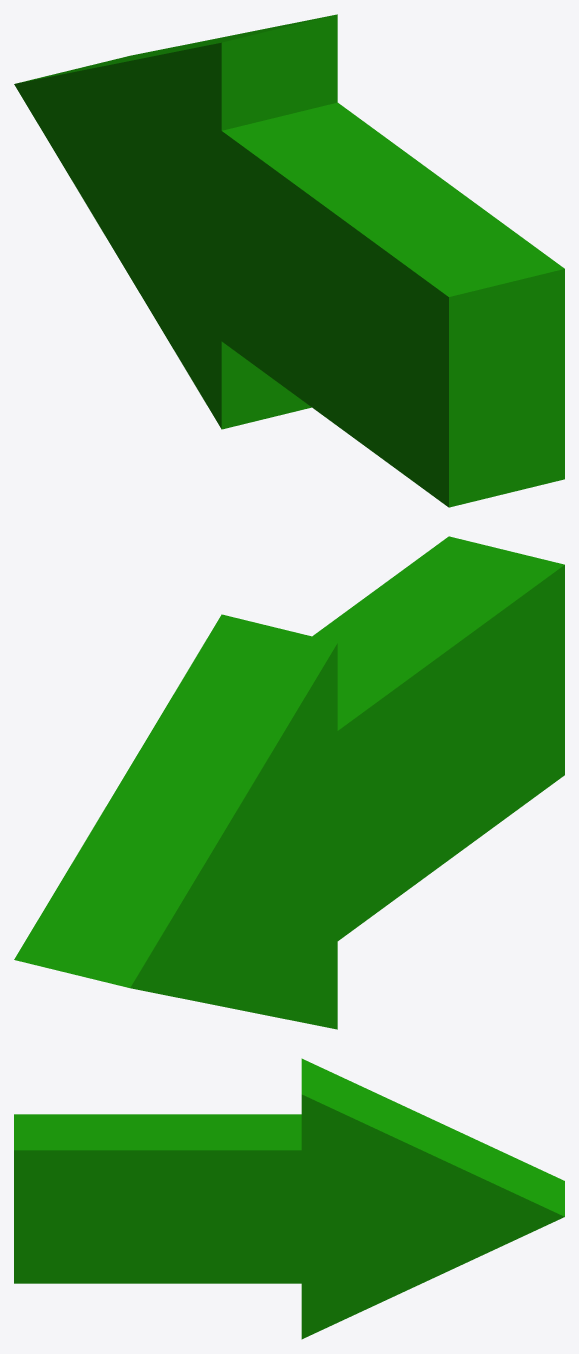
File: grabber_arrow_forward.obj
3 views of the same model, one above another, from view 1: azimuth 30°, elevation 25°; view 2: azimuth 150°, elevation 25°; view 3: azimuth 270°, elevation 25° (orthographic). The views are drawn at different scales.
Visible parts, largest first — view 1: grabber_arrow_forward_Plane.004_green; view 2: grabber_arrow_forward_Plane.004_green; view 3: grabber_arrow_forward_Plane.004_green.
Boxes of the visible parts, x1=… form: grabber_arrow_forward_Plane.004_green: x1=14, y1=14, x2=564, y2=507; grabber_arrow_forward_Plane.004_green: x1=14, y1=536, x2=564, y2=1029; grabber_arrow_forward_Plane.004_green: x1=14, y1=1058, x2=564, y2=1339.
Bounding box in the file's own units: 0.2839 × 0.9039 × 1.84.
